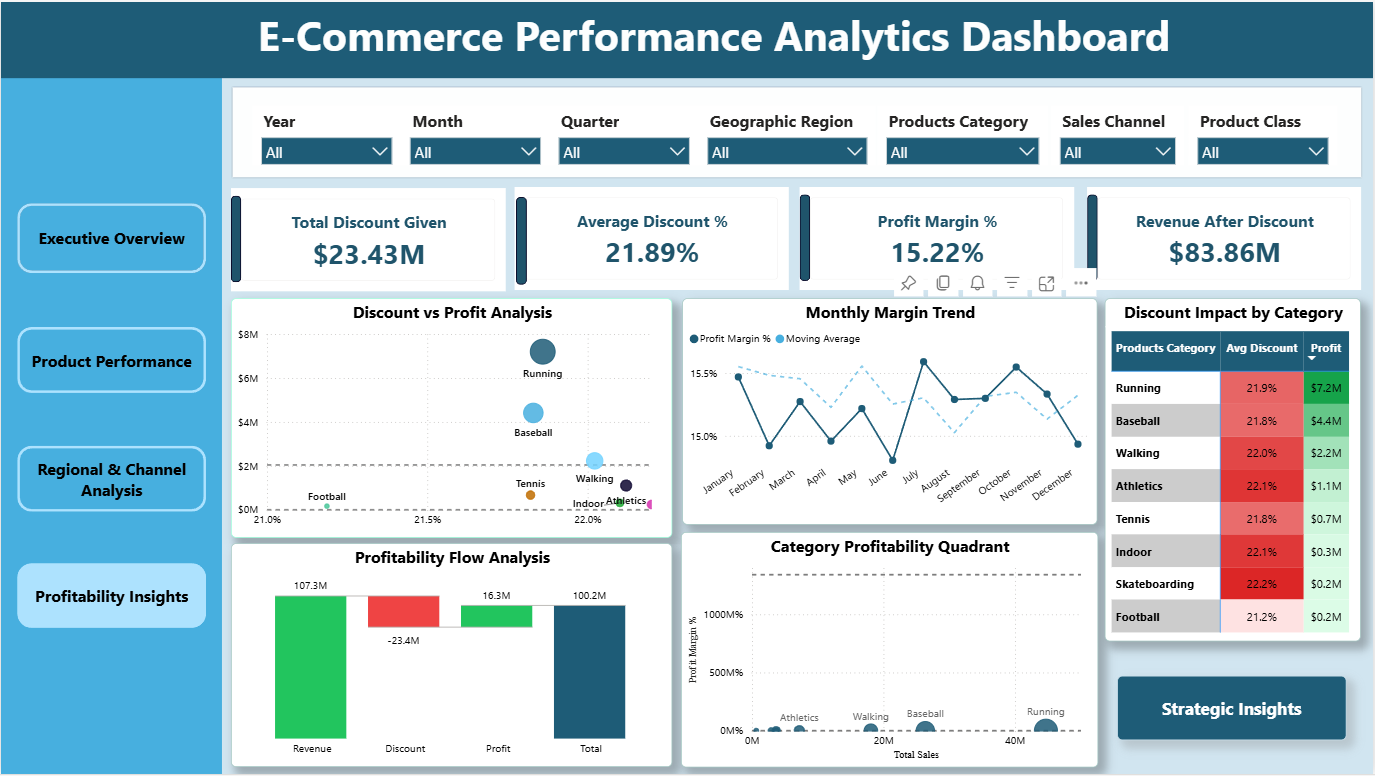

The dashboard page shown, as its layout file describes it:
{"tool":"powerbi","page":{"name":" Profitability Insights","canvas":[1600,900],"ordinal":3},"visuals":[{"type":"group","id":"g1","title":"Group 1","box":[0,0,257.9,900.3],"z":0},{"type":"shape","box":[0,0,257.9,900.3],"z":0,"group":"g1"},{"type":"shape","box":[0,0,1600,89],"z":1000,"group":"g4"},{"type":"group","id":"g2","title":"Group 2","box":[267.6,216,1317.5,120.8],"z":1000},{"type":"actionButton","title":"ggggg","box":[19.6,235.3,220.2,81.4],"z":1000,"group":"g1"},{"type":"group","id":"g3","title":"Group 3","box":[267.6,98,1319.5,108.6],"z":2000},{"type":"shape","box":[267.6,98,1319.5,108.6],"z":2000,"group":"g3"},{"type":"actionButton","box":[19.6,378.5,220.2,76.9],"z":2000,"group":"g1"},{"type":"group","id":"g4","title":"Group 4","box":[0,0,1600,89],"z":3000},{"type":"textbox","box":[294.1,0,1109.9,89],"z":3000,"group":"g4"},{"type":"actionButton","box":[19.6,517.3,220.2,76.9],"z":3000,"group":"g1"},{"type":"scatterChart","title":"Discount vs Profit Analysis","fields":{"X":["Measure table.Average Discount %"],"Y":["Measure table.Total profit"],"Size":["Measure table.Total Sales"],"Series":["Product Category.Products Category"]},"box":[267.6,344.8,514.6,279.6],"z":4000},{"type":"actionButton","box":[19.6,654.5,220.2,75.4],"z":4000,"group":"g1"},{"type":"lineChart","title":"Monthly Margin Trend","fields":{"Category":["Date.Month name"],"Y":["Measure table.Profit Margin %","Measure table.Margin MA 3M"]},"box":[794.2,344.8,483.7,264.2],"z":5000},{"type":"waterfallChart","title":"Profitability Flow Analysis","fields":{"Category":["Financial Breakdown.Metric"],"Y":["Measure table.Waterfall Value"]},"box":[267.6,631.2,514.6,260.7],"z":6000},{"type":"scatterChart","title":"Category Profitability Quadrant","fields":{"X":["Measure table.Total Sales"],"Y":["Measure table.Profit Margin %"],"Size":["Measure table.Total profit"],"Category":["Product Category.Products Category"]},"box":[792.5,617.5,486,274.4],"z":7000},{"type":"slicer","fields":{"Values":["Date.Year"]},"box":[291.7,120.8,173.4,69.4],"z":8000,"group":"g3"},{"type":"pivotTable","title":"Discount Impact by Category","fields":{"Values":["Measure table.Average Discount %","Measure table.Total profit"],"Rows":["Product Category.Products Category"]},"box":[1286.5,344.8,298.5,399.7],"z":8000},{"type":"slicer","fields":{"Values":["Region.Geographic Region"]},"box":[812,120.8,206.6,69.4],"z":9000,"group":"g3"},{"type":"actionButton","box":[1301.9,785.6,267.6,75.5],"z":9000},{"type":"slicer","fields":{"Values":["Date.Quarter No"]},"box":[638.6,120.8,173.4,69.4],"z":10000,"group":"g3"},{"type":"slicer","fields":{"Values":["Date.Month name"]},"box":[465.2,120.8,173.4,69.4],"z":11000,"group":"g3"},{"type":"slicer","fields":{"Values":["Sales Details.Sales Channel"]},"box":[1223.7,120.8,155.3,69.4],"z":12000,"group":"g3"},{"type":"slicer","fields":{"Values":["Products.Products Category"]},"box":[1021.7,120.8,199.1,69.4],"z":13000,"group":"g3"},{"type":"slicer","fields":{"Values":["Products.Product Class"]},"box":[1383.6,120.8,173.4,69.4],"z":14000,"group":"g3"},{"type":"group","id":"g5","title":"Group 5","box":[267.6,216.8,320,120.1],"z":15000,"group":"g2"},{"type":"group","id":"g6","title":"Group 5","box":[598,216,319,120.1],"z":16000,"group":"g2"},{"type":"group","id":"g7","title":"Group 5","box":[931,216,319,120.1],"z":17000,"group":"g2"},{"type":"group","id":"g8","title":"Group 5","box":[1266,216,319,120.1],"z":18000,"group":"g2"},{"type":"cardVisual","fields":{"Data":["Measure table.Average Discount %"]},"box":[598,216,319.1,120],"z":19000,"group":"g6"},{"type":"cardVisual","fields":{"Data":["Measure table.Profit Margin %"]},"box":[931,216,320,120.1],"z":19000,"group":"g7"},{"type":"cardVisual","fields":{"Data":["Measure table.Revenue After Discount"]},"box":[1266,216,319.1,120],"z":19000,"group":"g8"},{"type":"cardVisual","fields":{"Data":["Measure table.Total Discount Given"]},"box":[267.6,216.8,320,120.1],"z":19000,"group":"g5"},{"type":"shape","box":[931,225,12.1,100.7],"z":24500,"group":"g7"},{"type":"shape","box":[1266,225,12.1,100.6],"z":24500,"group":"g8"},{"type":"shape","box":[267.6,225.8,11.8,100.7],"z":24500,"group":"g5"},{"type":"shape","box":[599.7,227.1,12.5,102.1],"z":24500,"group":"g6"}]}

Visuals, with their boxes in screenshot pixels (x1, y1, x2, y2), scaled from the page's 1600x900 canvas onto the 1375x776 screenshot:
"Group 1" group: (left=0, top=0, right=222, bottom=775)
shape: (left=0, top=0, right=222, bottom=775)
shape: (left=0, top=0, right=1374, bottom=77)
"Group 2" group: (left=230, top=186, right=1362, bottom=290)
"ggggg" actionButton: (left=17, top=203, right=206, bottom=273)
"Group 3" group: (left=230, top=84, right=1364, bottom=178)
shape: (left=230, top=84, right=1364, bottom=178)
actionButton: (left=17, top=326, right=206, bottom=393)
"Group 4" group: (left=0, top=0, right=1374, bottom=77)
textbox: (left=253, top=0, right=1207, bottom=77)
actionButton: (left=17, top=446, right=206, bottom=512)
"Discount vs Profit Analysis" scatterChart: (left=230, top=297, right=672, bottom=538)
actionButton: (left=17, top=564, right=206, bottom=629)
"Monthly Margin Trend" lineChart: (left=683, top=297, right=1098, bottom=525)
"Profitability Flow Analysis" waterfallChart: (left=230, top=544, right=672, bottom=769)
"Category Profitability Quadrant" scatterChart: (left=681, top=532, right=1099, bottom=769)
slicer - Date.Year: (left=251, top=104, right=400, bottom=164)
"Discount Impact by Category" pivotTable: (left=1106, top=297, right=1362, bottom=642)
slicer - Region.Geographic Region: (left=698, top=104, right=875, bottom=164)
actionButton: (left=1119, top=677, right=1349, bottom=742)
slicer - Date.Quarter No: (left=549, top=104, right=698, bottom=164)
slicer - Date.Month name: (left=400, top=104, right=549, bottom=164)
slicer - Sales Details.Sales Channel: (left=1052, top=104, right=1185, bottom=164)
slicer - Products.Products Category: (left=878, top=104, right=1049, bottom=164)
slicer - Products.Product Class: (left=1189, top=104, right=1338, bottom=164)
"Group 5" group: (left=230, top=187, right=505, bottom=290)
"Group 5" group: (left=514, top=186, right=788, bottom=290)
"Group 5" group: (left=800, top=186, right=1074, bottom=290)
"Group 5" group: (left=1088, top=186, right=1362, bottom=290)
cardVisual - Measure table.Average Discount %: (left=514, top=186, right=788, bottom=290)
cardVisual - Measure table.Profit Margin %: (left=800, top=186, right=1075, bottom=290)
cardVisual - Measure table.Revenue After Discount: (left=1088, top=186, right=1362, bottom=290)
cardVisual - Measure table.Total Discount Given: (left=230, top=187, right=505, bottom=290)
shape: (left=800, top=194, right=810, bottom=281)
shape: (left=1088, top=194, right=1098, bottom=281)
shape: (left=230, top=195, right=240, bottom=282)
shape: (left=515, top=196, right=526, bottom=284)
